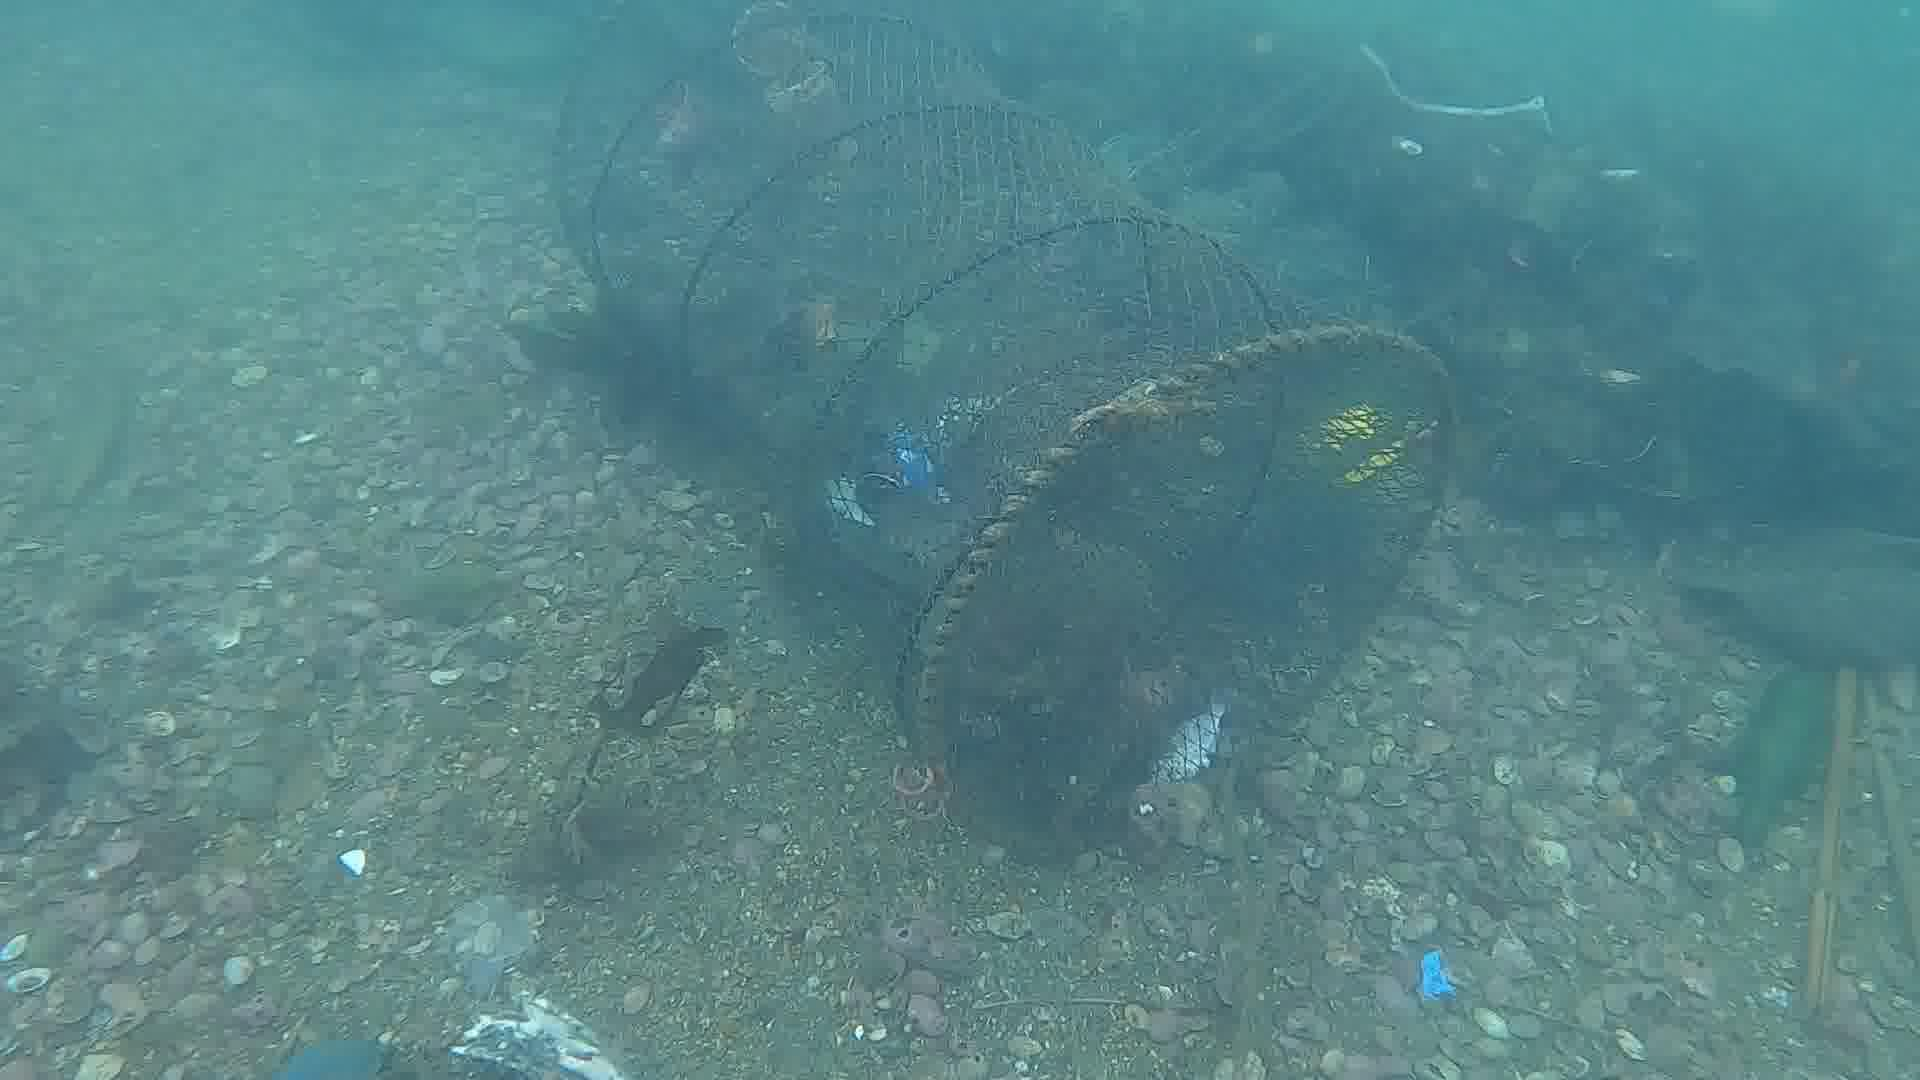spring fish trap: (551, 12, 1470, 862)
